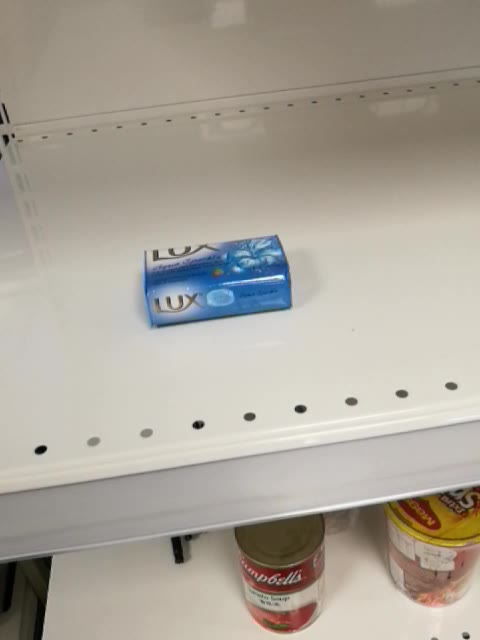soap: (140, 232, 292, 328)
